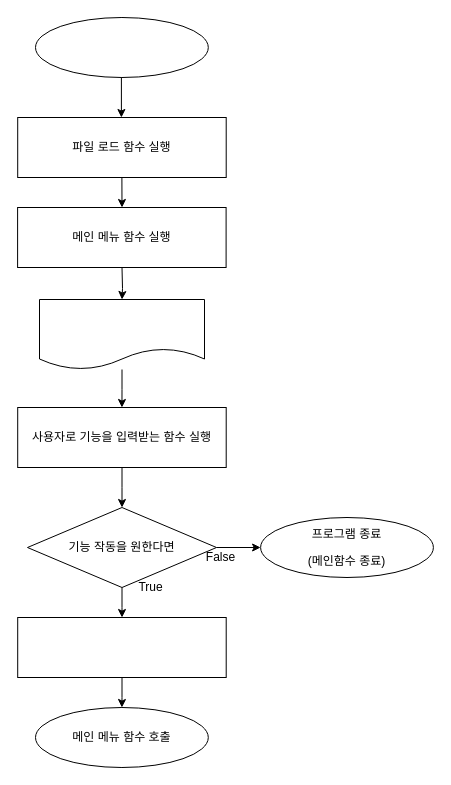
The diagram is 451 pixels wide and 785 high, and some of its shapes have lost their labels. The centre of each missing label's shape, as x and y in pixels:
기능 설명 출력: (121,334)
실질적 기능을 수행하는 함수 실행: (121,647)
프로그램 시작: (121,47)
